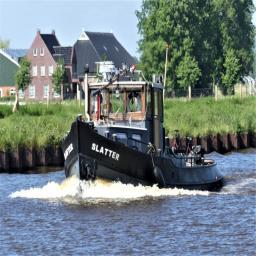tugboat: (61, 60, 227, 201)
